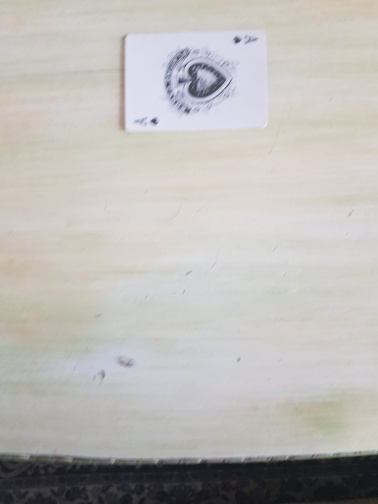ace: (123, 27, 270, 133)
